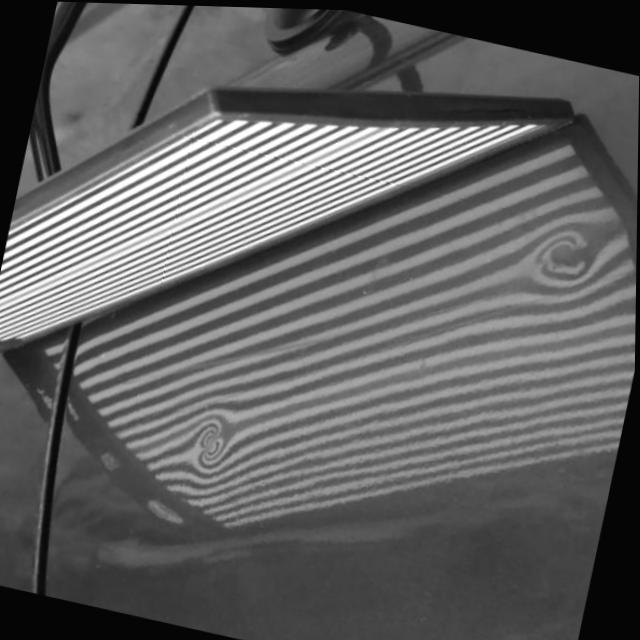PDR-Dent: (499, 199, 637, 323), (157, 395, 258, 502)
